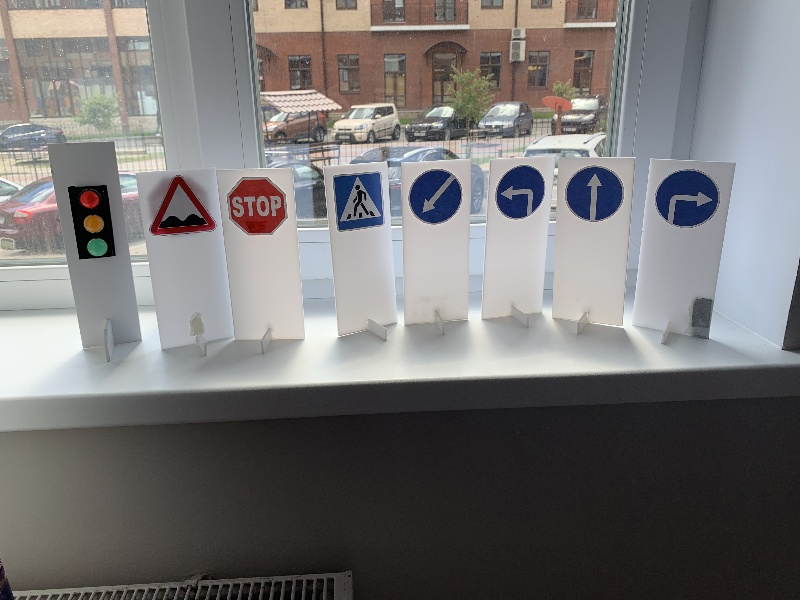Left: (495, 164, 546, 220)
Nerov: (151, 172, 214, 240)
Right: (655, 166, 719, 228)
Stop: (224, 172, 288, 241)
forw: (565, 164, 622, 222)
pesh: (334, 171, 385, 232)
prep: (408, 166, 462, 227)
